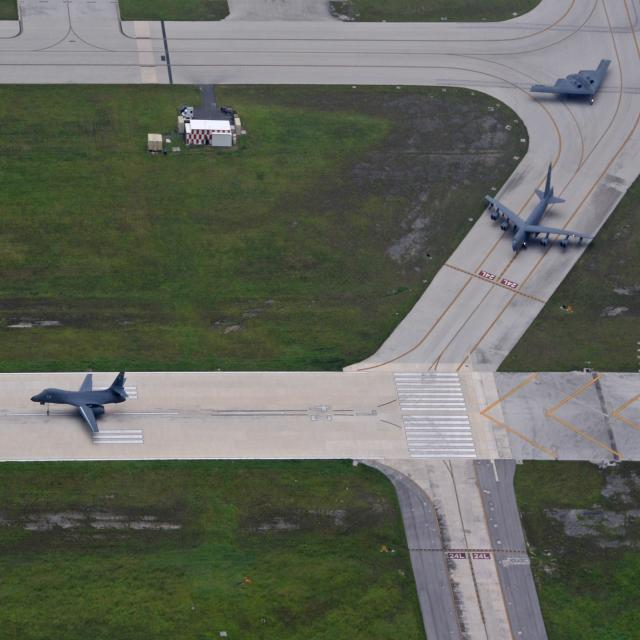MIL_Plane: (465, 168, 574, 243), (23, 363, 123, 427), (529, 58, 612, 105)
